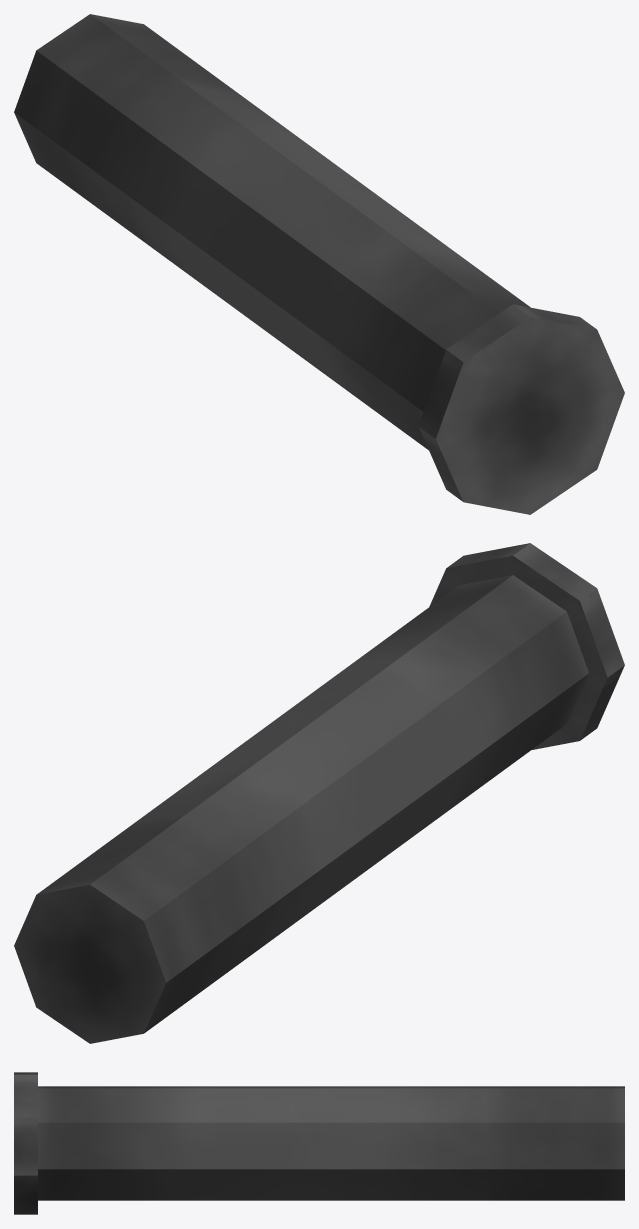
File: pipe_single.fbx
3 views of the same model, one above another, from view 1: azimuth 30°, elevation 25°; view 2: azimuth 150°, elevation 25°; view 3: azimuth 270°, elevation 25° (orthographic). The views are drawn at different scales.
Visible parts, largest first — view 1: pipe_single; view 2: pipe_single; view 3: pipe_single.
Part boxes in pixels (bbox=[...]): pipe_single: bbox=[14, 14, 624, 514]; pipe_single: bbox=[14, 543, 624, 1043]; pipe_single: bbox=[14, 1072, 624, 1214].
Bounding box in the file's own units: 0.124 × 0.124 × 0.5.
Materials: 1 (1 with a texture image).
